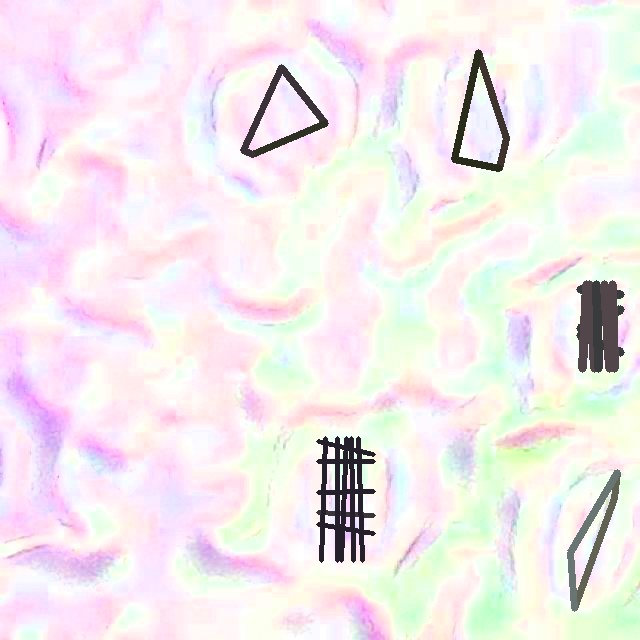close: (240, 64, 328, 157)
open: (316, 436, 375, 562), (568, 469, 617, 610), (452, 49, 508, 170), (577, 280, 623, 371)
